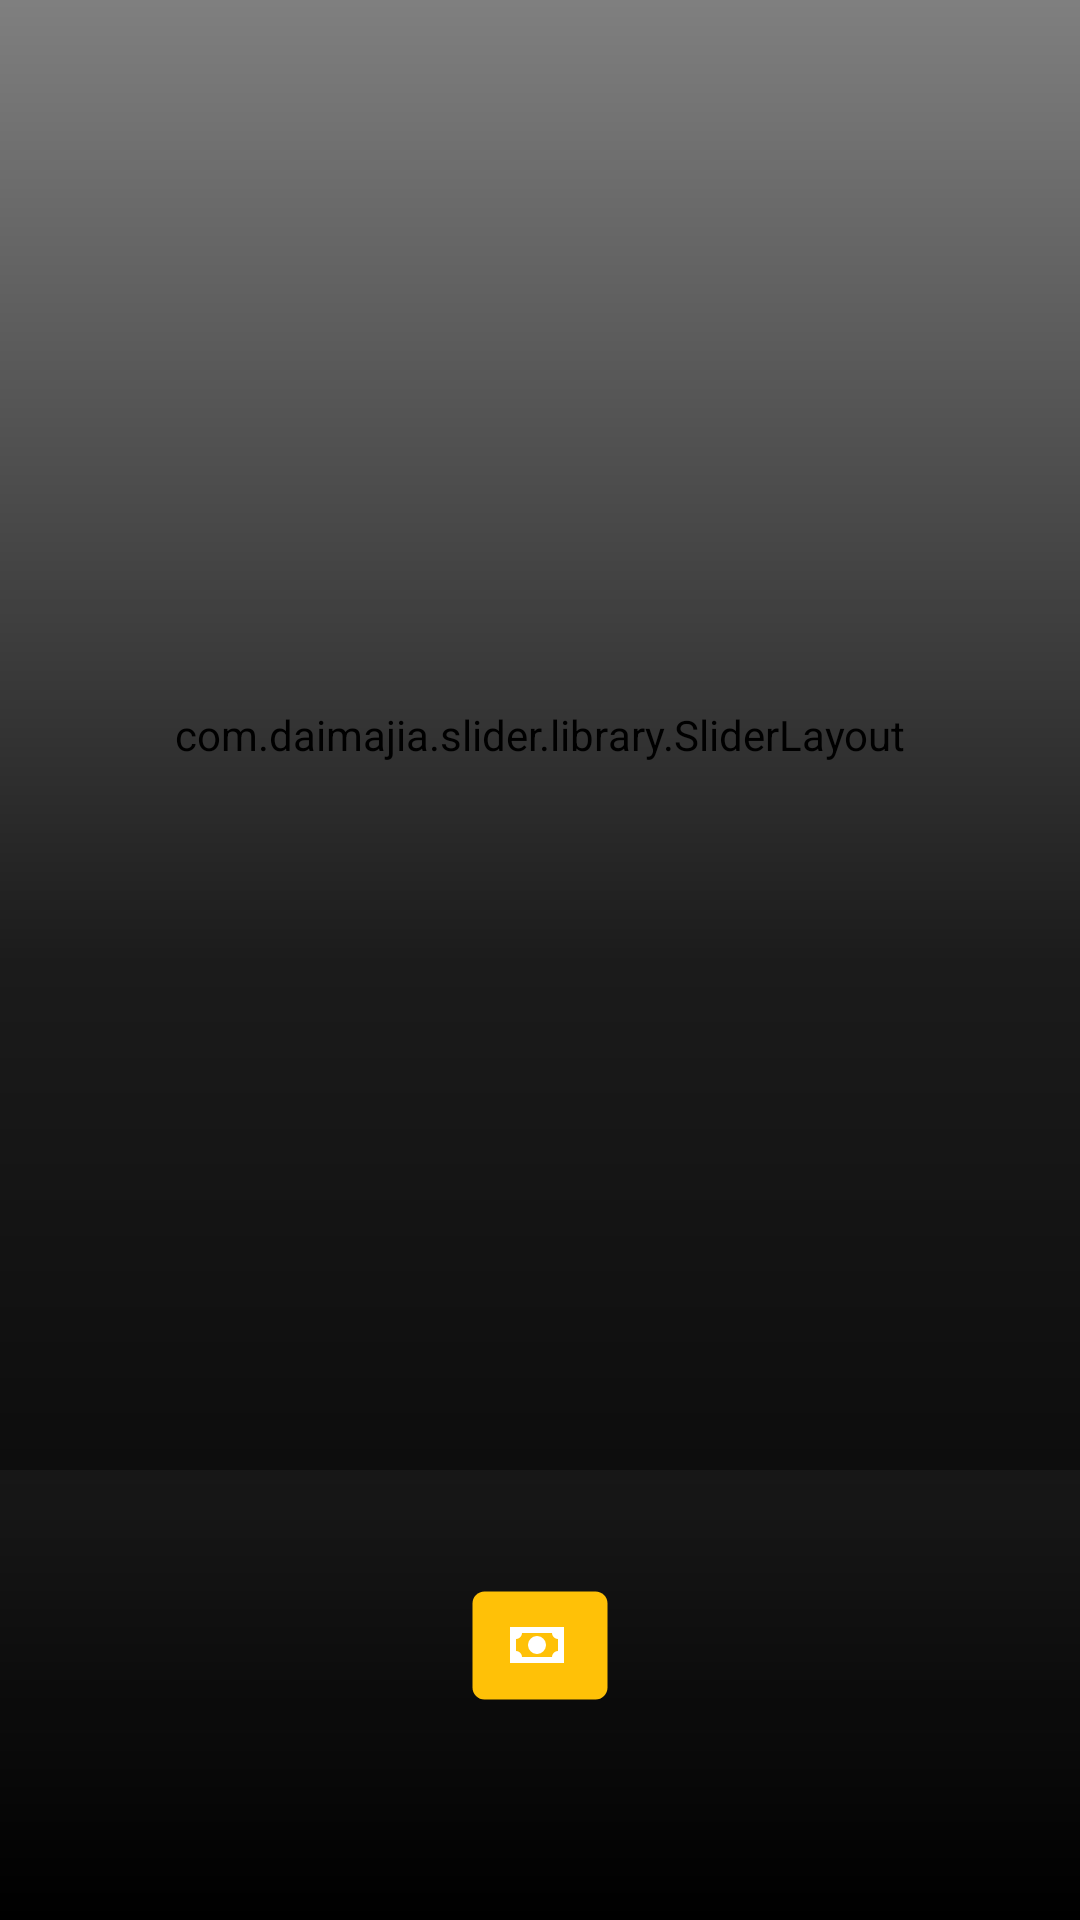

Icons on this 1080 × 1920 Android screen, each with its box as [left=x1, top=y1, right=x2, bottom=y2]:
cash: [left=510, top=1627, right=564, bottom=1663]
